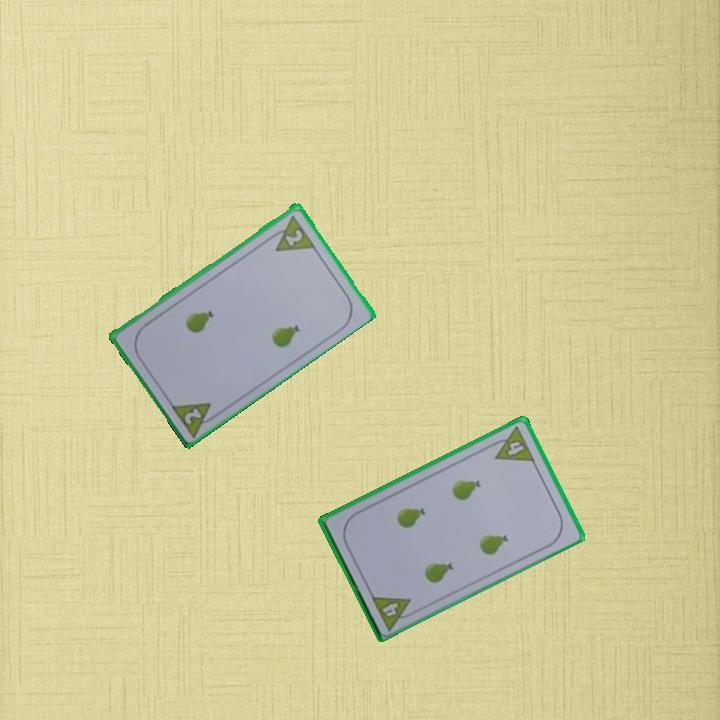2p: (167, 398, 222, 439), (281, 225, 306, 248)
4p: (486, 423, 538, 465), (367, 591, 418, 632)
